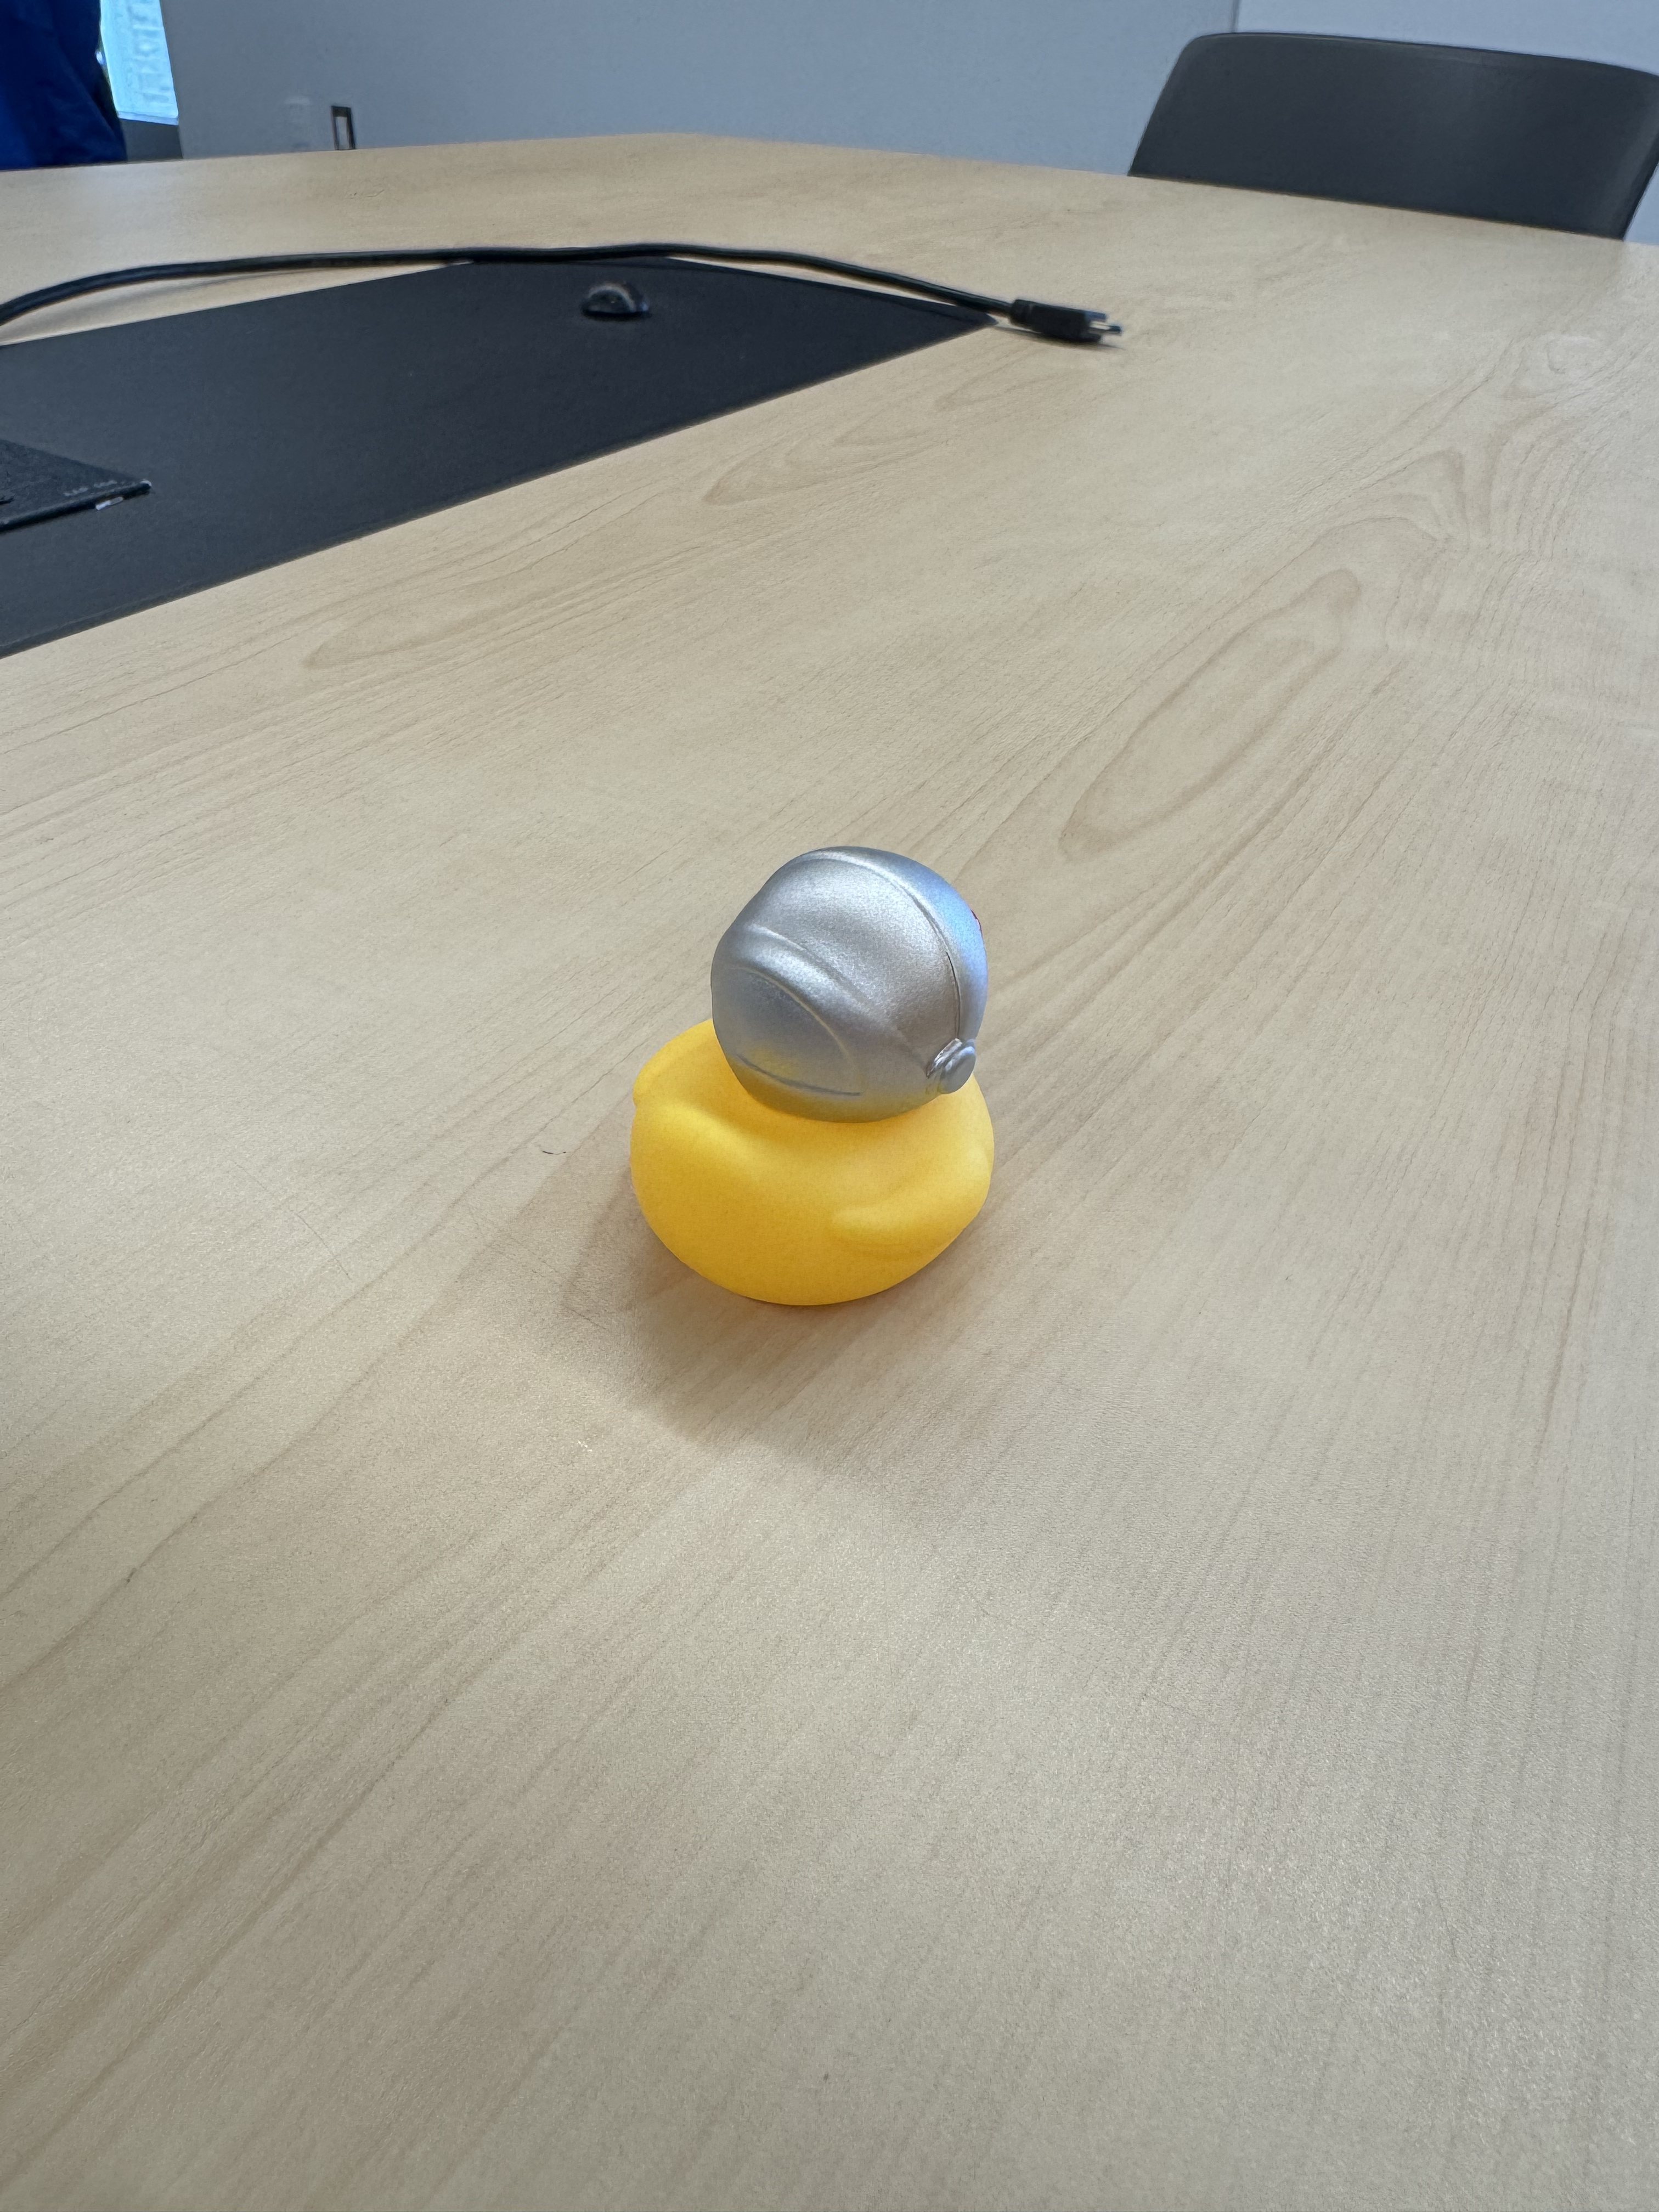duck_specialty: (612, 810, 1028, 1320)
